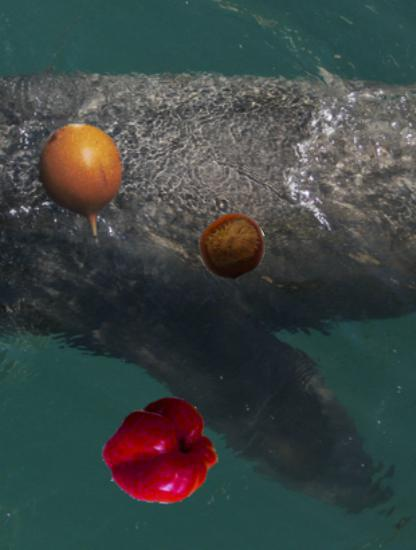Granadilla: (17, 122, 145, 250)
Nut: (198, 212, 266, 280)
Pepper: (105, 397, 218, 510)
